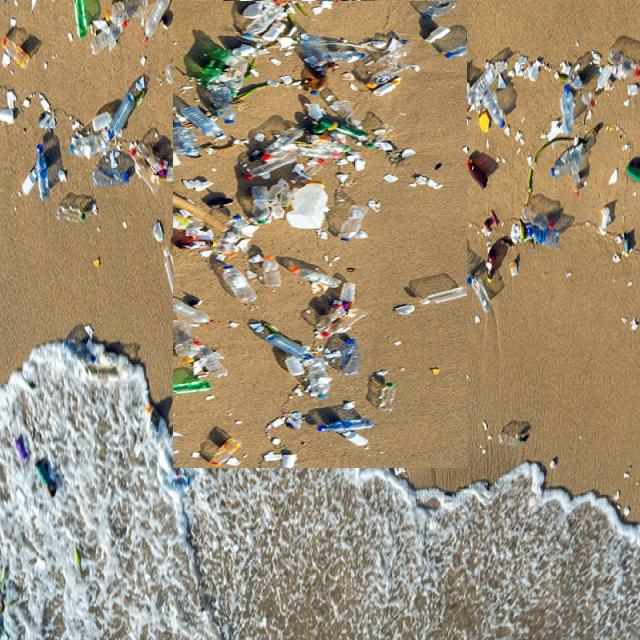garbage: (86, 0, 553, 382)
